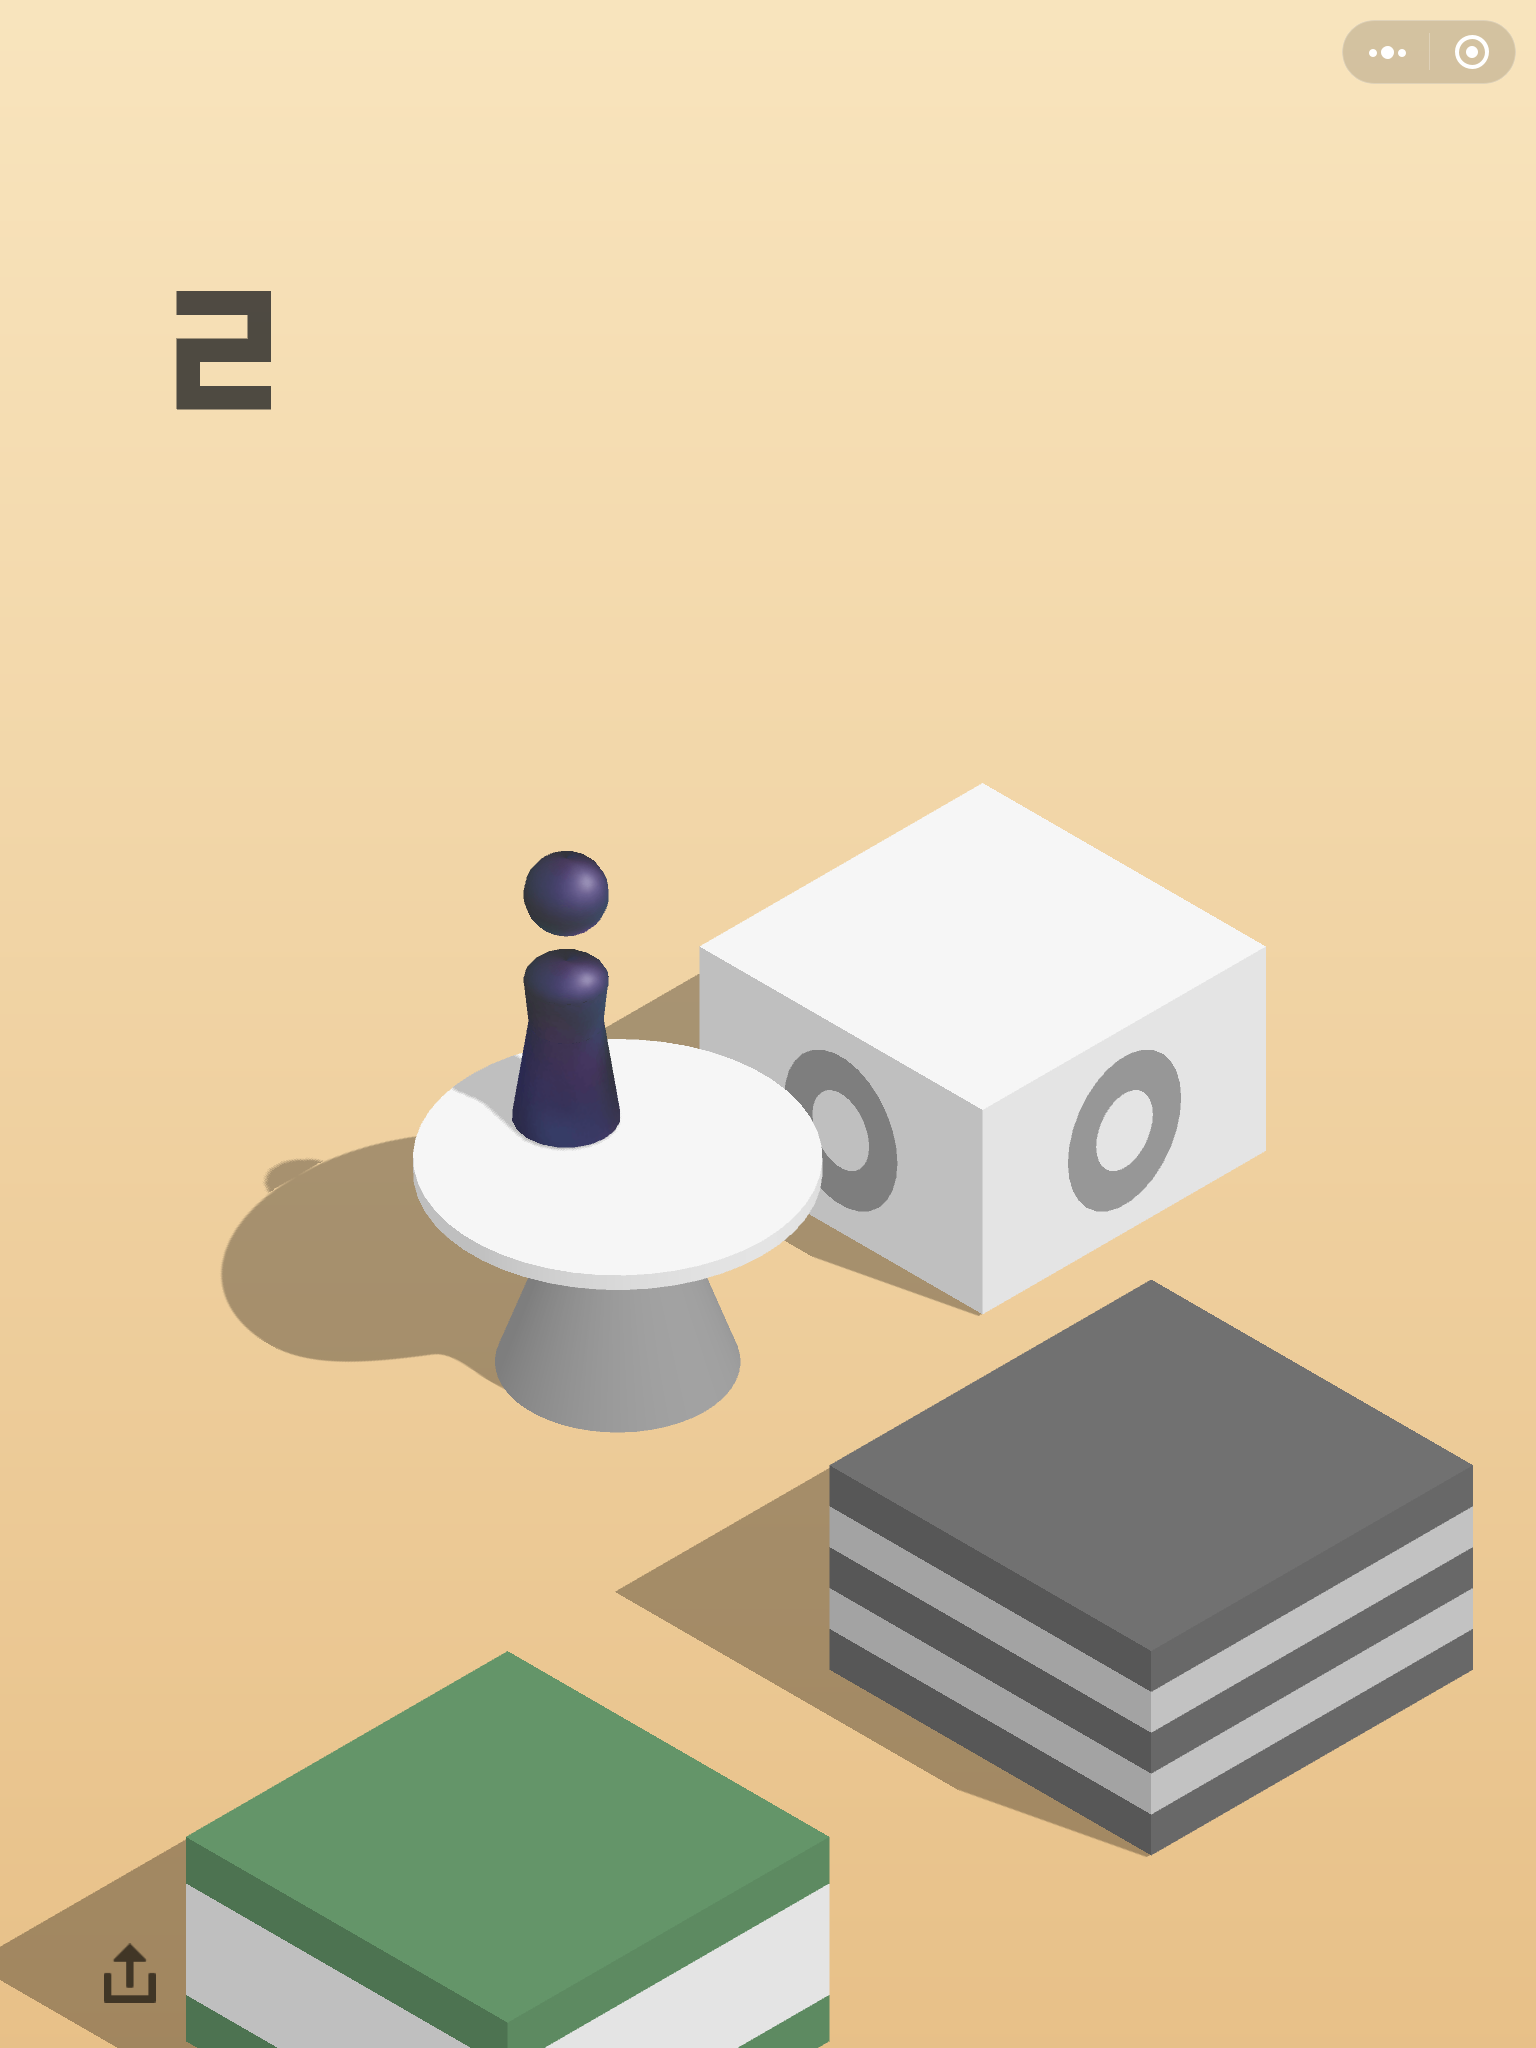c: (407, 1027, 829, 1443)
f: (823, 1277, 1483, 1854), (692, 772, 1276, 1313), (182, 1646, 841, 2048)
r: (508, 840, 629, 1158)
